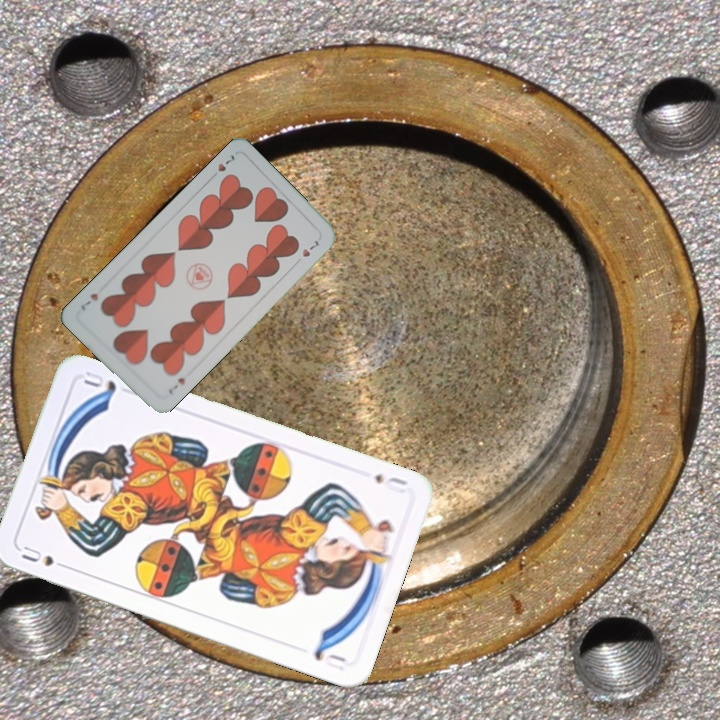H7: (206, 150, 237, 182), (165, 374, 188, 397)
SU: (17, 542, 74, 572), (370, 470, 410, 496)
